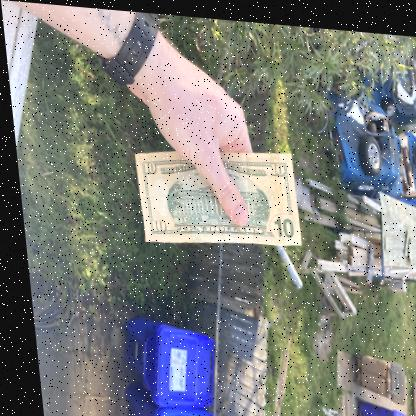ten-back: (133, 148, 303, 248)
